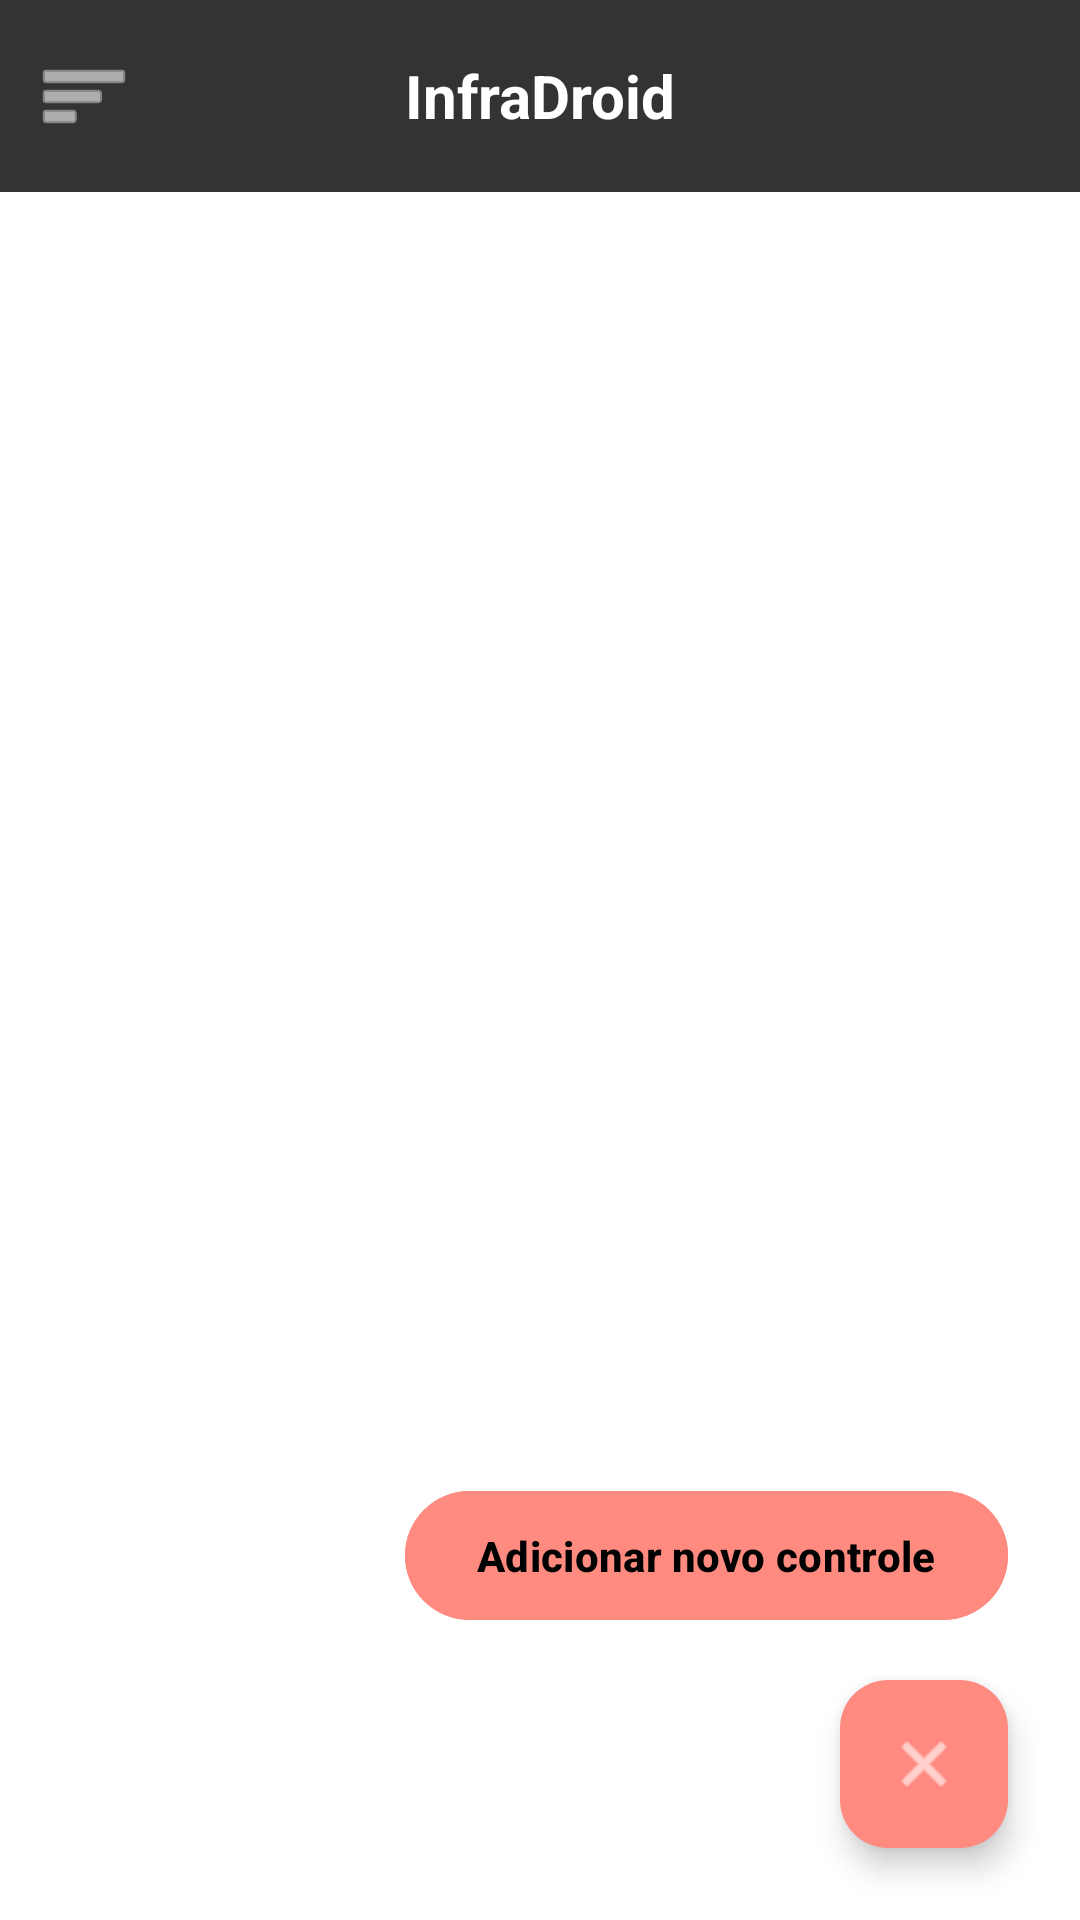

Screen size 1080px x 1920px. Icon name, then its box in pixels as [x1, y1, x2, y2]:
close clear cancel: [840, 1680, 1008, 1848]
